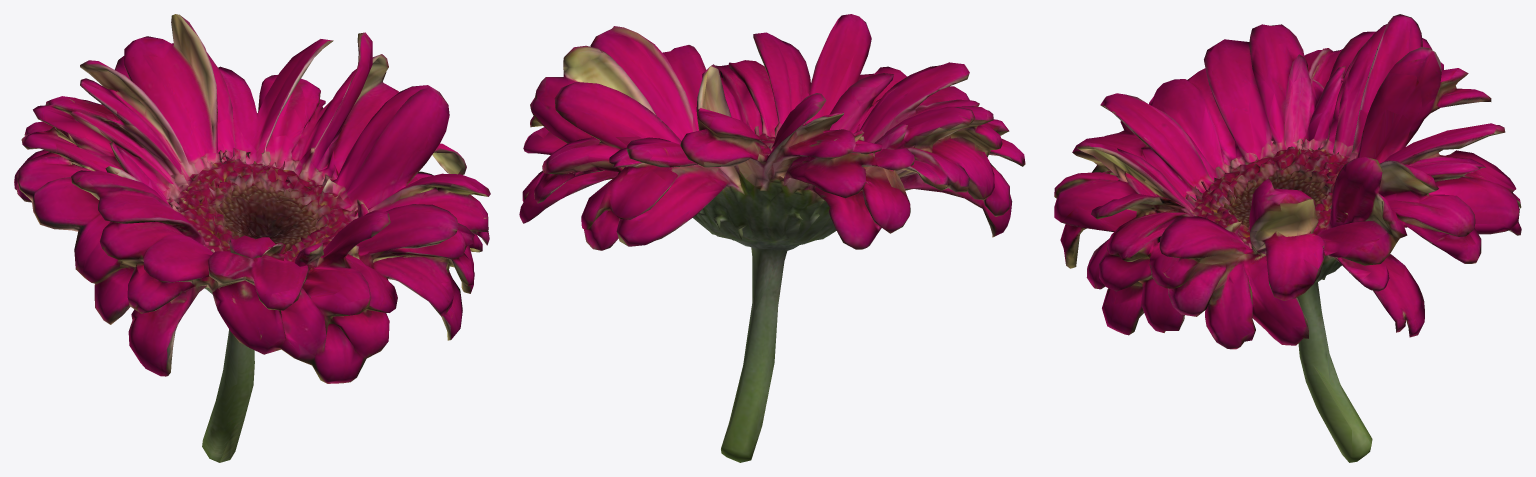
File: purple_flower.glb
3 renders of one model, left to right at view 1: azimuth 30°, elevation 25°; view 2: azimuth 150°, elevation 25°; view 3: azimuth 270°, elevation 25°, orthographic. The views are drawn at different scales.
Visible parts, largest first — view 1: purple_flower; view 2: purple_flower; view 3: purple_flower.
Part boxes in pixels (bbox=[...]): purple_flower: bbox=[14, 14, 490, 462]; purple_flower: bbox=[519, 14, 1025, 462]; purple_flower: bbox=[1054, 14, 1521, 462].
Size of the model in its own units: 88.25 by 87.01 by 89.81.
1 material, 1 textured.
